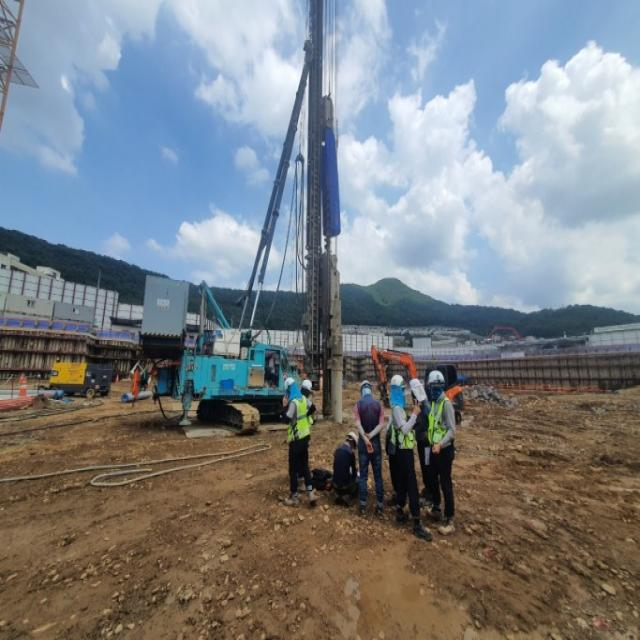excavator: (371, 346, 463, 424)
pile: (306, 0, 322, 372)
